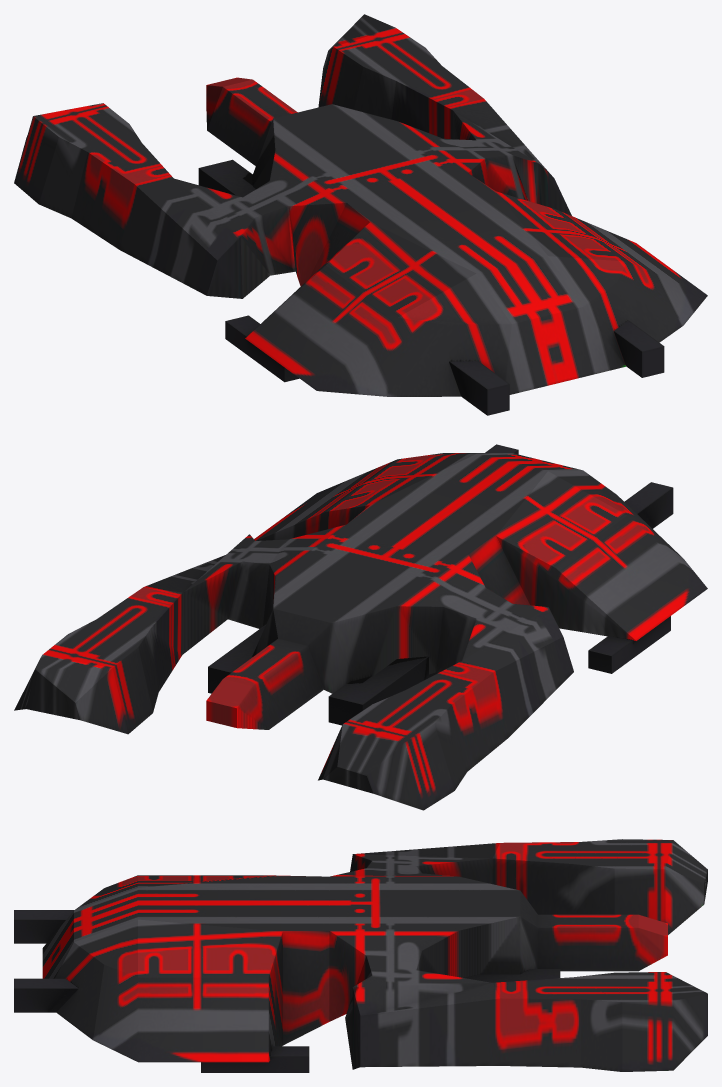
Rendered from Enemy_06.FBX.
3 views of the same model, one above another, from view 1: azimuth 30°, elevation 25°; view 2: azimuth 150°, elevation 25°; view 3: azimuth 270°, elevation 25° (orthographic). The views are drawn at different scales.
Visible parts, largest first — view 1: Box01; view 2: Box01; view 3: Box01.
Boxes of the visible parts, box(x1,y1,x2,y2) form: Box01: box(14, 14, 707, 415); Box01: box(14, 444, 707, 810); Box01: box(14, 839, 707, 1072).
Bounding box in the file's own units: 76.44 × 18.99 × 121.
1 material, 1 textured.
